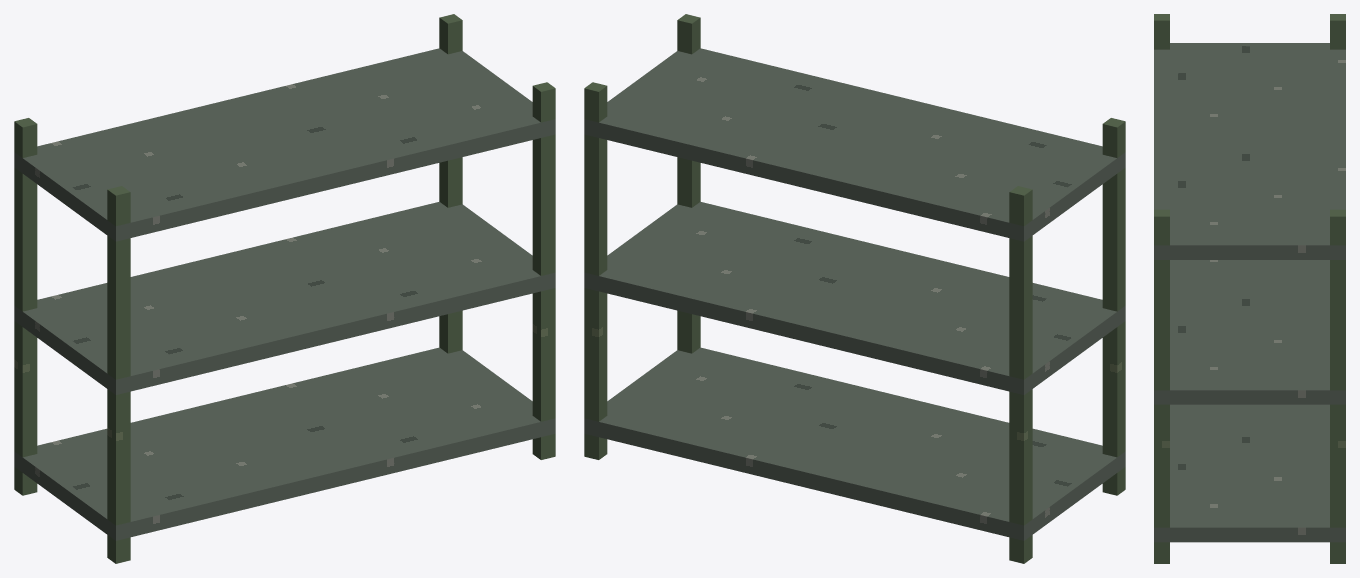
File: storage_rack.gltf
3 views of the same model, side by side, from view 1: azimuth 30°, elevation 25°; view 2: azimuth 150°, elevation 25°; view 3: azimuth 270°, elevation 25° (orthographic). The views are drawn at different scales.
Visible parts, largest first — view 1: deck (×3), post (×4); view 2: deck (×3), post (×4); view 3: deck (×3), post (×4).
Part boxes in pixels (x1=…): deck (×3): x1=14, y1=48, x2=555, y2=540; post (×4): x1=14, y1=14, x2=555, y2=563; deck (×3): x1=584, y1=48, x2=1125, y2=540; post (×4): x1=584, y1=14, x2=1125, y2=563; deck (×3): x1=1154, y1=43, x2=1345, y2=542; post (×4): x1=1154, y1=14, x2=1345, y2=563.
Size of the model in its own units: 3.75 by 3 by 1.5.
2 materials, 2 textured.
